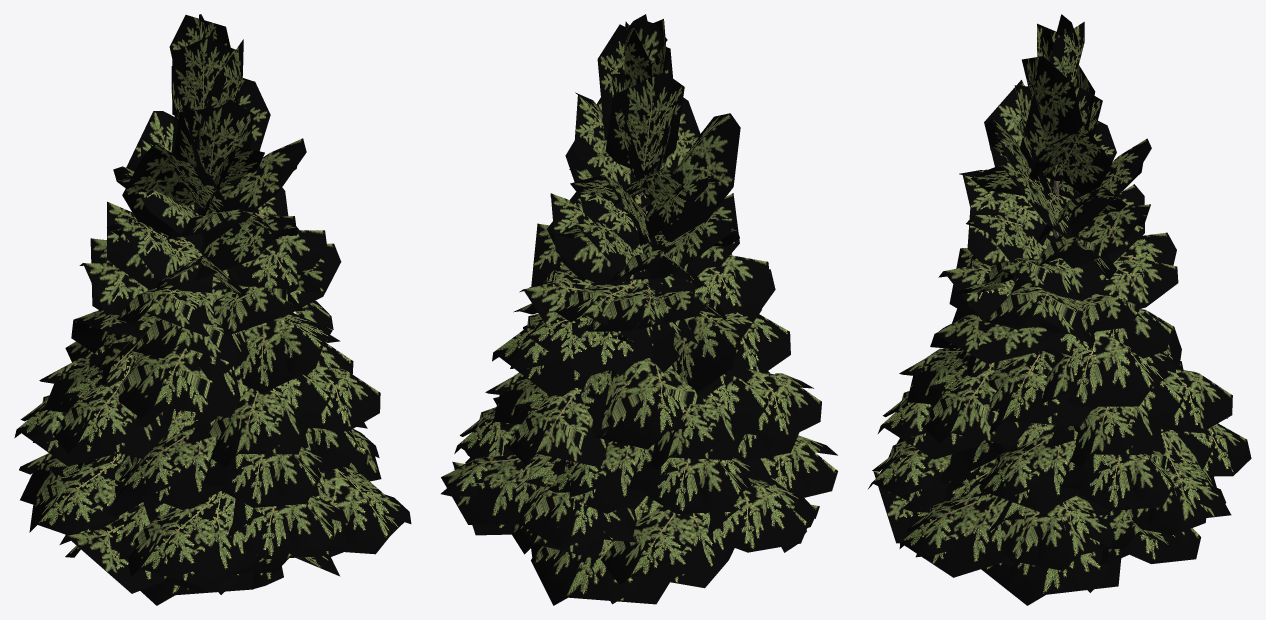
Rendered from tree.obj.
3 renders of one model, left to right at view 1: azimuth 30°, elevation 25°; view 2: azimuth 150°, elevation 25°; view 3: azimuth 270°, elevation 25°, orthographic. The views are drawn at different scales.
Visible parts, largest first — view 1: treeBranches2; view 2: treeBranches2; view 3: treeBranches2.
Part boxes in pixels (x1,y1,x2,y2): treeBranches2: (14,14,411,605); treeBranches2: (441,14,837,605); treeBranches2: (868,14,1251,605).
Bounding box in the file's own units: 0.087 × 0.1359 × 0.0874.
2 materials, 2 textured.
